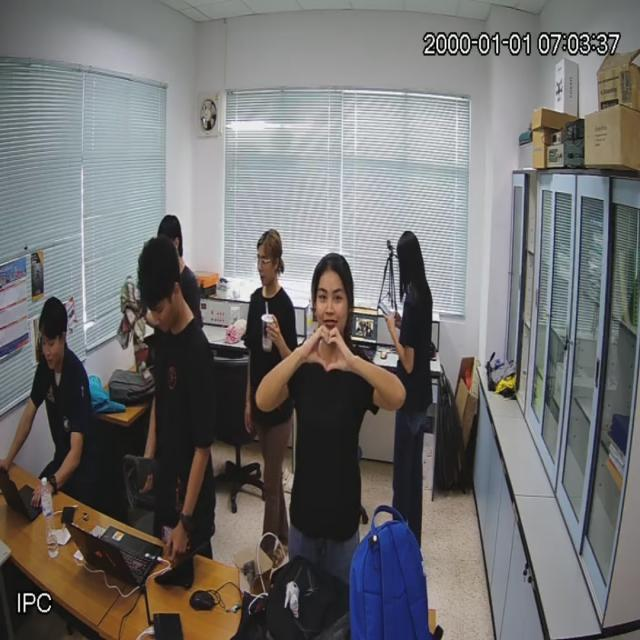normal: (284, 253, 371, 572), (130, 240, 214, 554), (20, 296, 98, 498), (383, 230, 432, 518), (249, 230, 291, 562)
